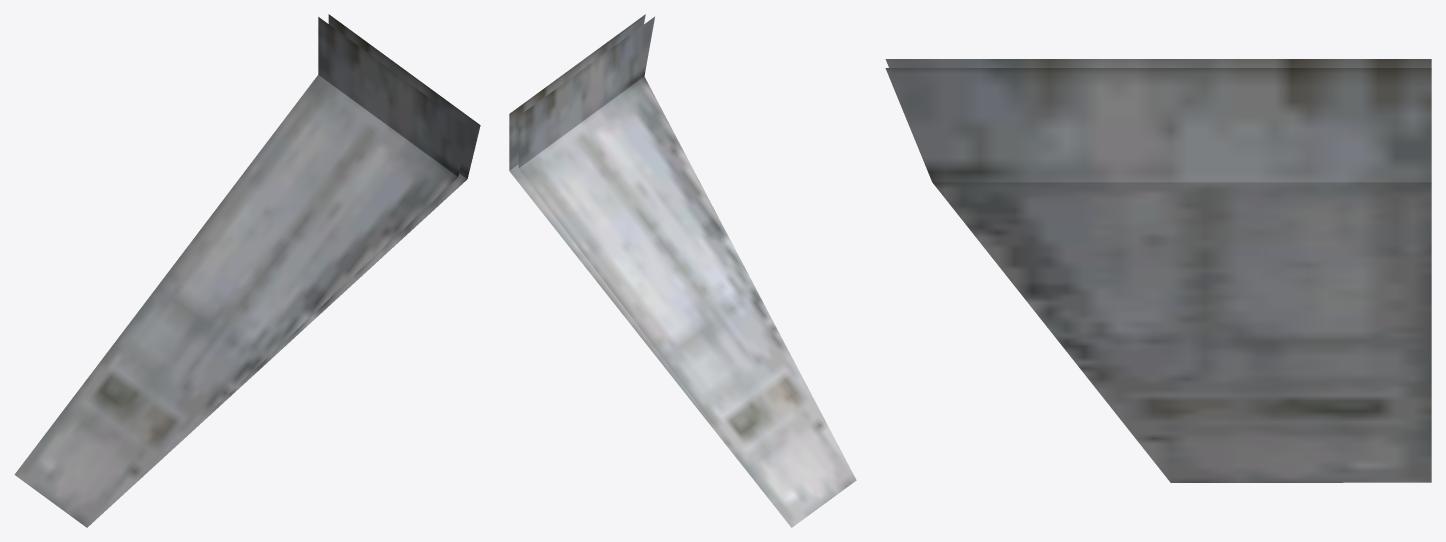
The model's file is lambda_wing_left_l2.fbx.
3 views of the same model, side by side, from view 1: azimuth 30°, elevation 25°; view 2: azimuth 150°, elevation 25°; view 3: azimuth 270°, elevation 25° (orthographic). The views are drawn at different scales.
Parts seen in each view (by area): view 1: mesh_node; view 2: mesh_node; view 3: mesh_node.
Part boxes in pixels (x1,y1,x2,y2): mesh_node: (14, 14, 480, 527); mesh_node: (509, 14, 856, 527); mesh_node: (885, 59, 1431, 482).
Bounding box in the file's own units: 13.13 × 15.35 × 11.
